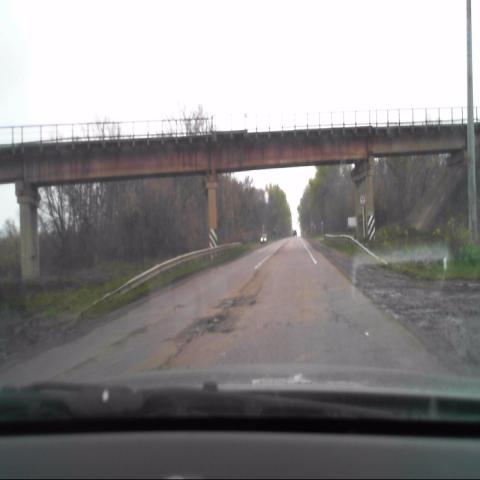3_13: (359, 193, 366, 207)
